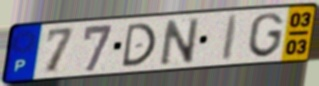7: (81, 23, 115, 73), (44, 25, 75, 76)
D: (119, 21, 158, 69)
G: (246, 11, 286, 59)
I: (219, 13, 242, 63)
N: (159, 16, 202, 68)
